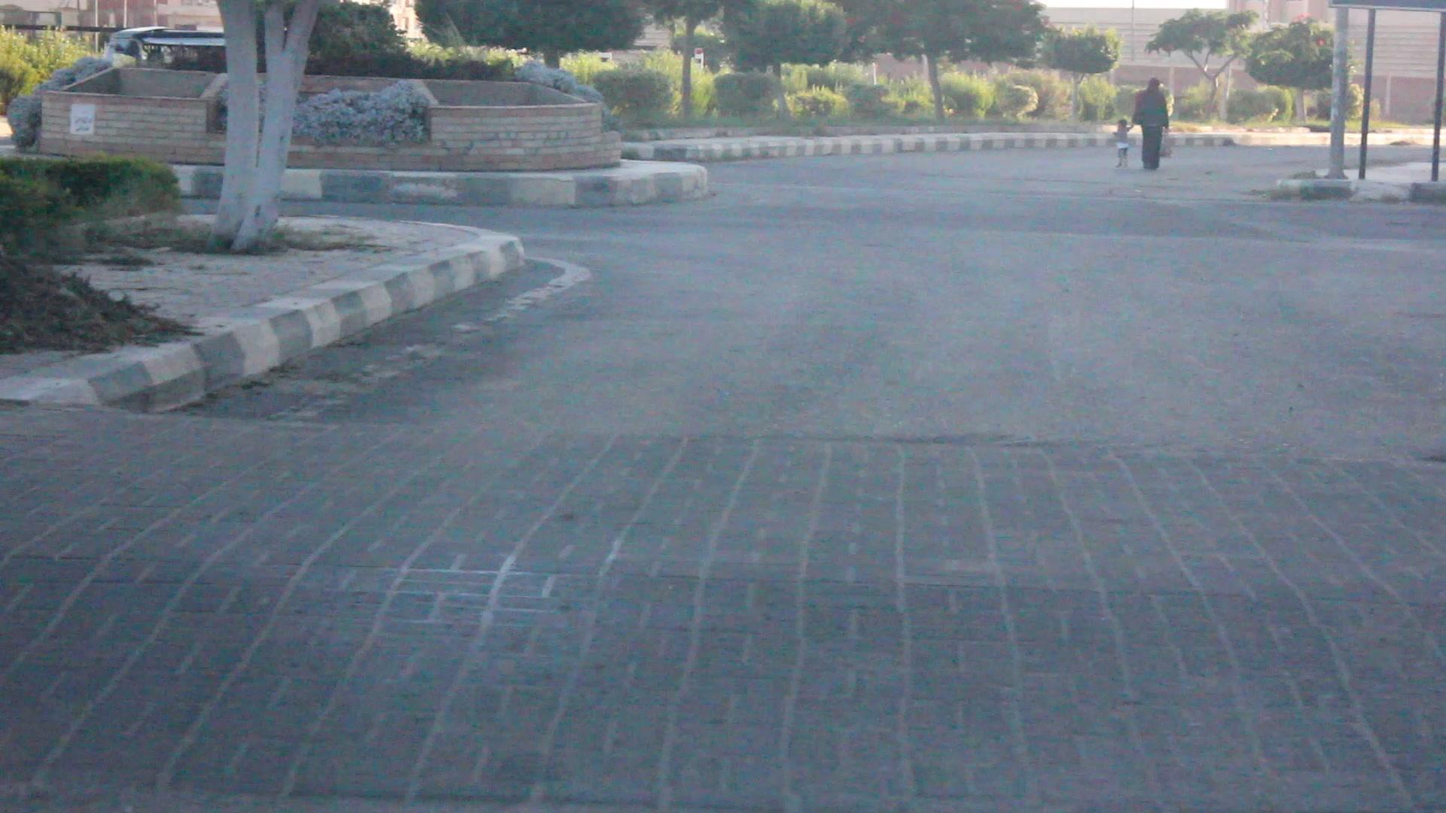Bump: (0, 402, 1446, 813)
